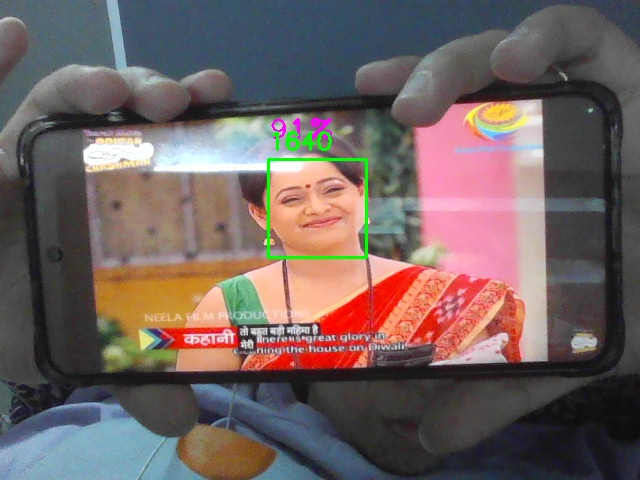fake: (268, 159, 367, 258)
